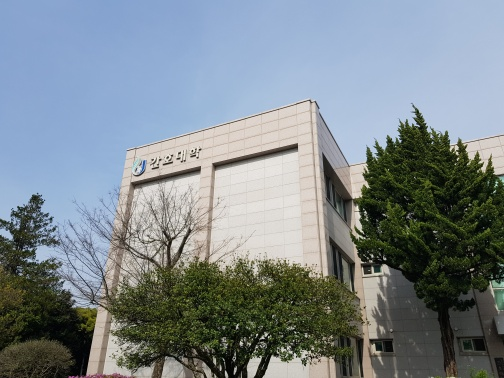College of Nursing: (115, 74, 489, 366), (130, 141, 203, 183)
